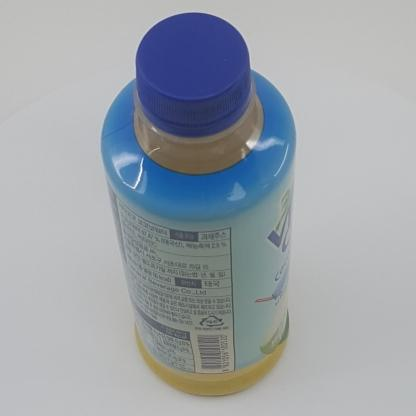----------280ml: (101, 13, 297, 396)
